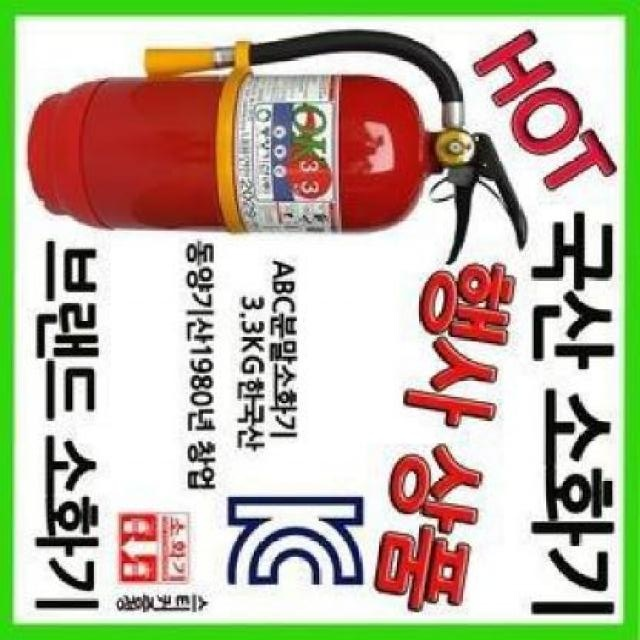fire extinguisher: (28, 30, 529, 264)
